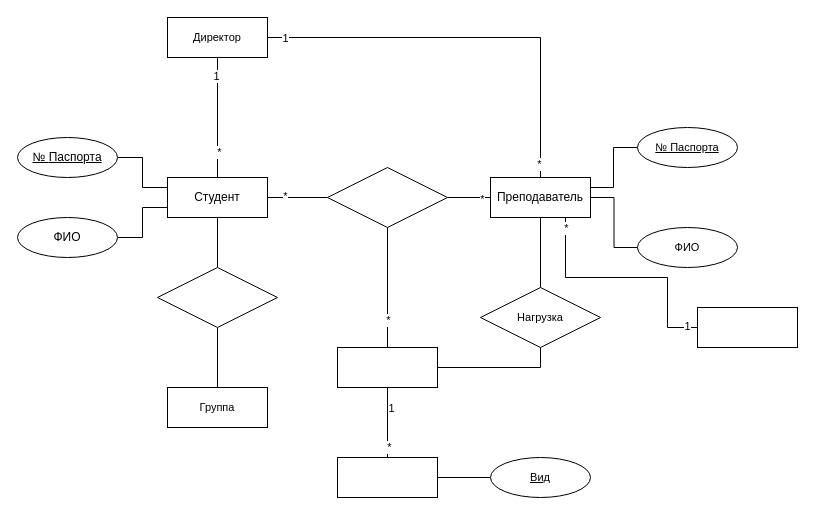
Image size: 815x515. Some labels were removed from this diagram. The shapes that lost their labels are listed below. From the top down, each one's box as (x1, y1, x2, y2) in pixels, then its label:
(326, 166, 448, 228): Ведомость
(156, 266, 278, 328): Обучается
(696, 306, 798, 348): Должность
(336, 346, 438, 388): Дисциплина
(336, 456, 438, 498): Вид занятий
